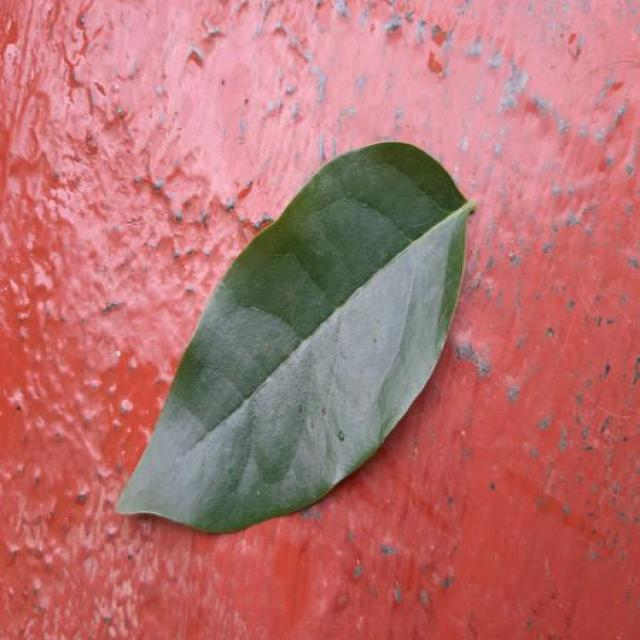amla: (117, 142, 475, 532)
